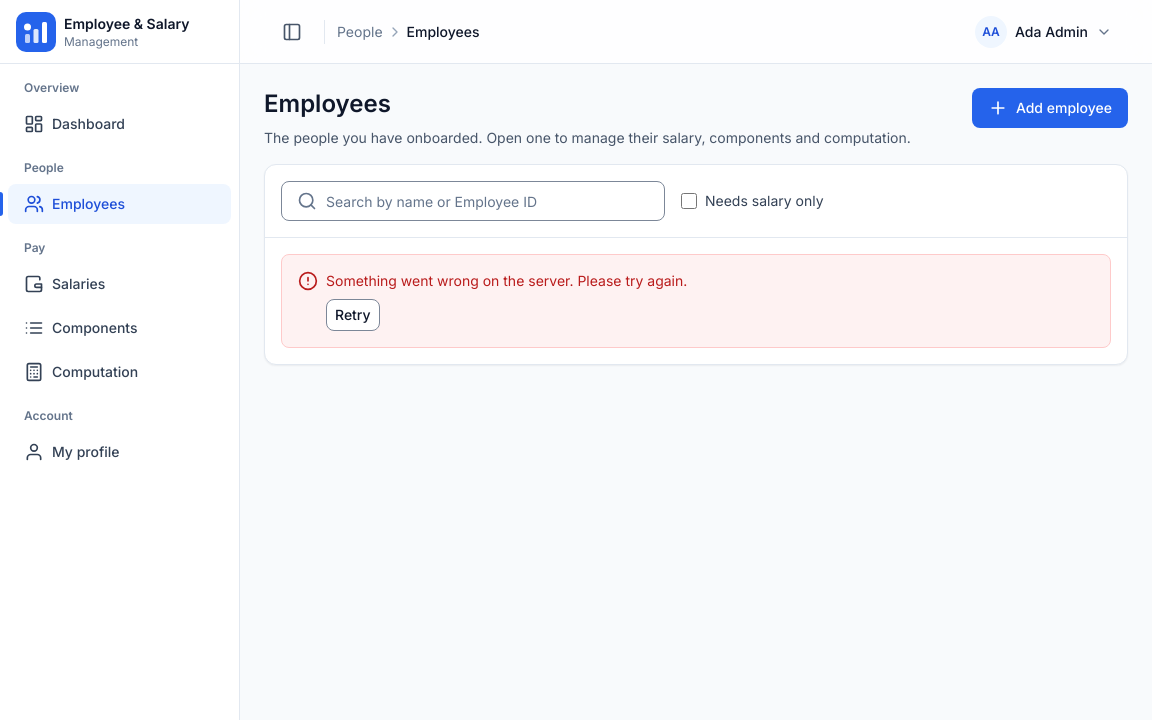
Test: Employees page › shows a plain error with Retry and never the raw server message
Click the button "Retry".
click(353, 315)  # box [326,299,380,331]
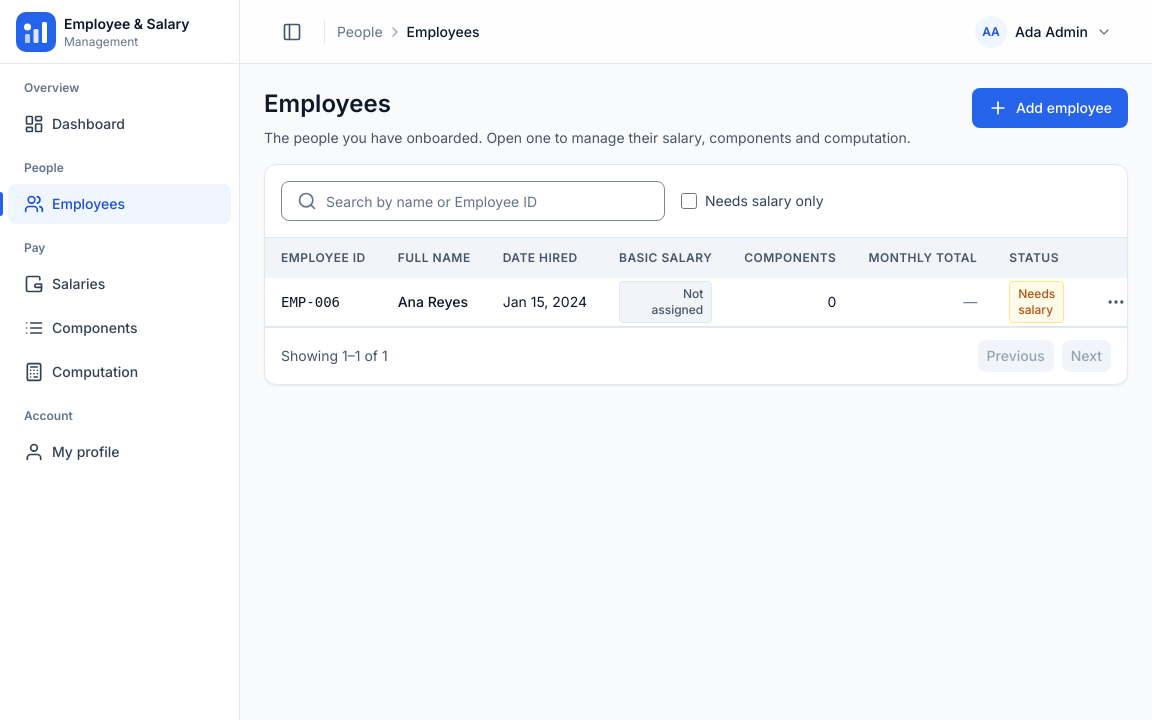
Check: the link "Ana Reyes" is shown, box [398,293,468,310]
